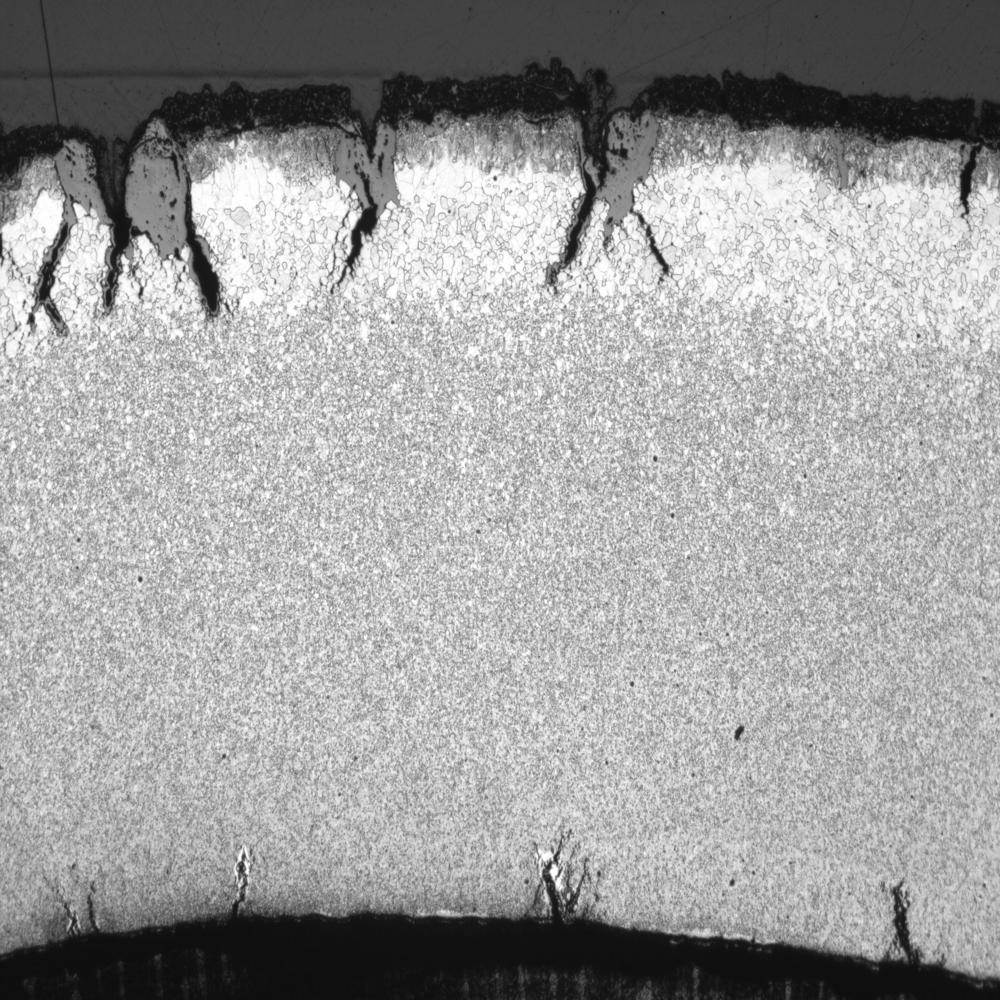crack: (11, 128, 248, 326), (513, 95, 669, 317), (309, 86, 432, 292), (845, 861, 951, 970), (507, 826, 601, 919), (932, 125, 1000, 236), (198, 840, 269, 914), (40, 877, 126, 927)
